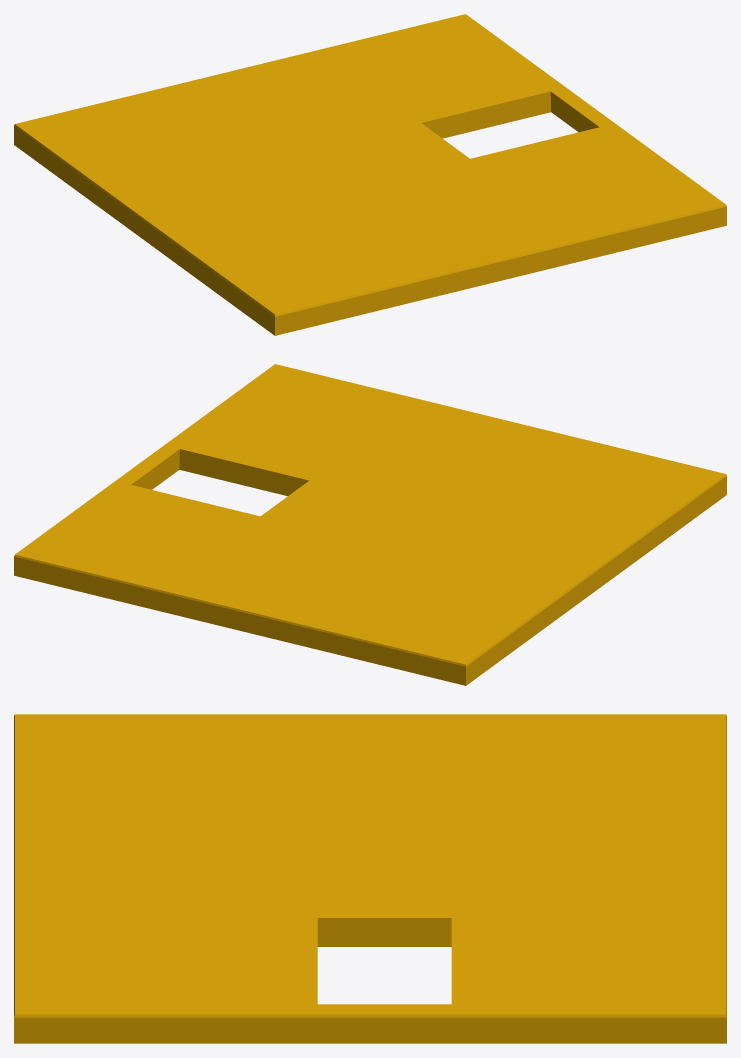
File: Move_Game_SliderHole_02.fbx
3 renders of one model, top to bottom at view 1: azimuth 30°, elevation 25°; view 2: azimuth 150°, elevation 25°; view 3: azimuth 270°, elevation 25°, orthographic. The views are drawn at different scales.
Parts seen in each view (by area): view 1: Move_Game_SliderHole_02; view 2: Move_Game_SliderHole_02; view 3: Move_Game_SliderHole_02.
Part boxes in pixels (<box>): Move_Game_SliderHole_02: <box>14,14,726,335</box>; Move_Game_SliderHole_02: <box>14,364,726,685</box>; Move_Game_SliderHole_02: <box>14,714,726,1043</box>.
Size of the model in its own units: 17.29 by 0.7676 by 17.29.
